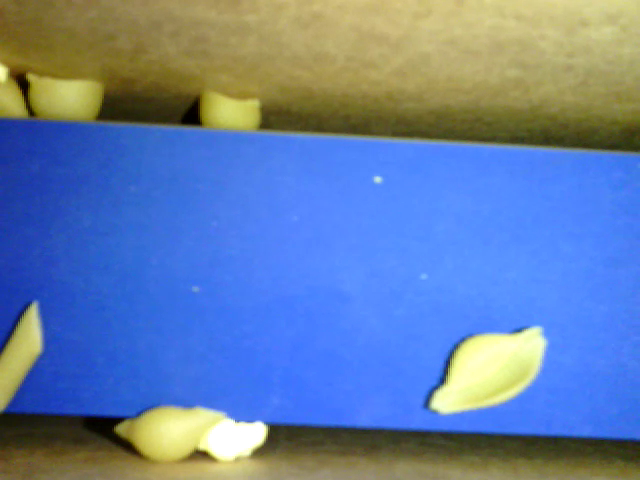penne: (1, 298, 44, 408)
shell: (427, 327, 549, 416), (114, 403, 225, 462), (25, 71, 102, 121), (197, 89, 260, 132)
